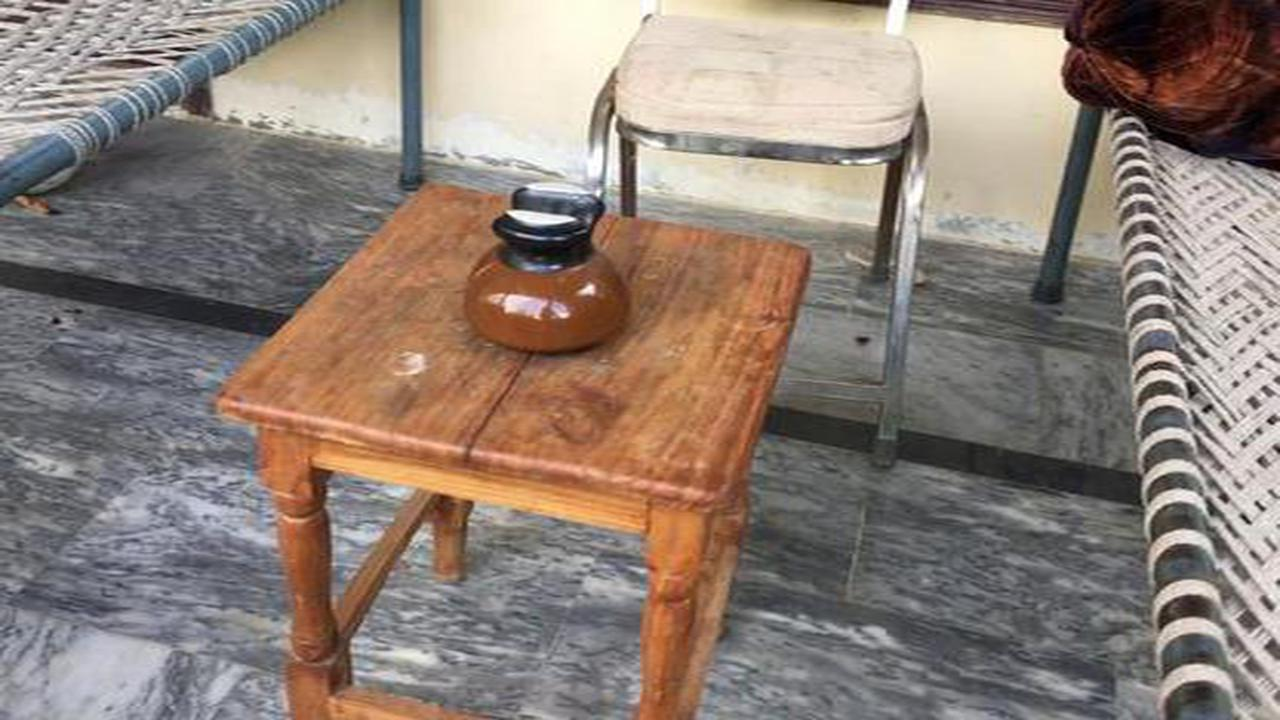insulator_pin: (450, 168, 653, 366)
